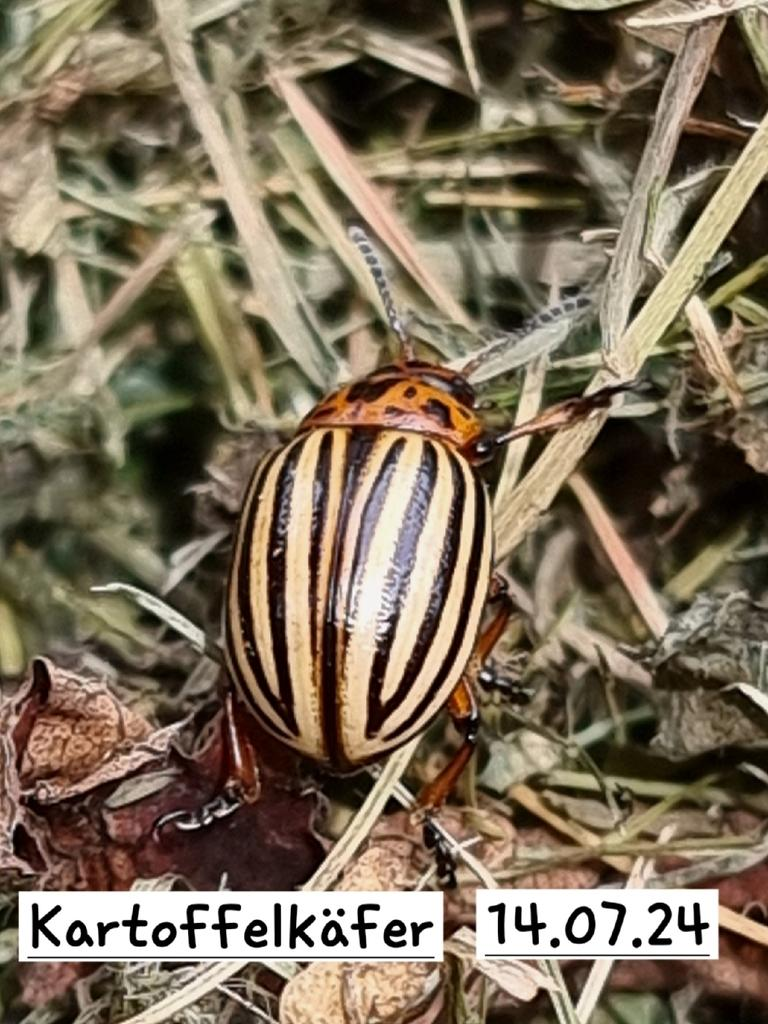potato_beetle: (148, 166, 660, 920)
